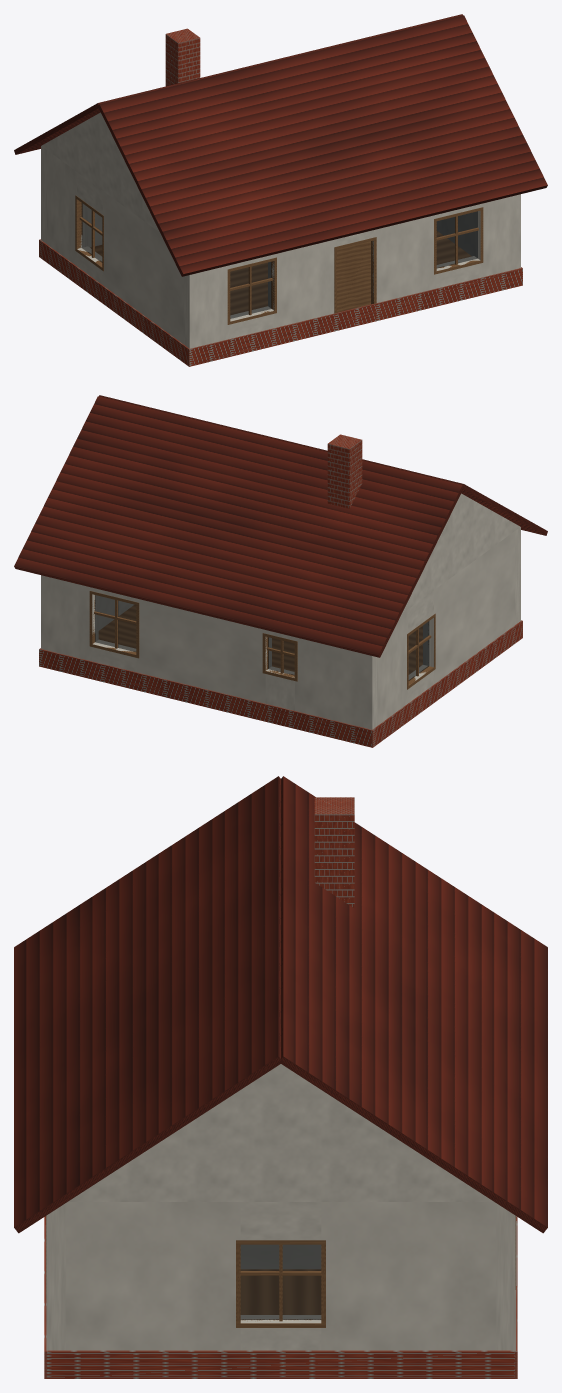
Rendered from house_L2.glb.
The picture shows the model from 3 angles, top to bottom: view 1: azimuth 30°, elevation 25°; view 2: azimuth 150°, elevation 25°; view 3: azimuth 270°, elevation 25°; orthographic projection. The views are drawn at different scales.
Visible parts, largest first — view 1: house:roof, house:plaster, house:brick, house:frames, house:glass; view 2: house:roof, house:plaster, house:brick, house:frames, house:glass; view 3: house:roof, house:plaster, house:brick, house:glass, house:frames.
Boxes of the visible parts, x1=… form: house:roof: x1=14, y1=14, x2=547, y2=276; house:plaster: x1=41, y1=112, x2=520, y2=348; house:brick: x1=39, y1=28, x2=522, y2=366; house:frames: x1=75, y1=195, x2=483, y2=324; house:glass: x1=81, y1=203, x2=477, y2=318; house:roof: x1=14, y1=395, x2=547, y2=657; house:plaster: x1=41, y1=493, x2=520, y2=729; house:brick: x1=39, y1=434, x2=522, y2=747; house:frames: x1=89, y1=591, x2=435, y2=689; house:glass: x1=95, y1=595, x2=429, y2=680; house:roof: x1=14, y1=776, x2=547, y2=1233; house:plaster: x1=46, y1=1064, x2=515, y2=1350; house:brick: x1=44, y1=797, x2=517, y2=1378; house:glass: x1=240, y1=1244, x2=321, y2=1319; house:frames: x1=46, y1=1216, x2=515, y2=1327.
Size of the model in its own units: 9.9 by 6.3 by 7.97.
Materials: 5 (4 with a texture image).
